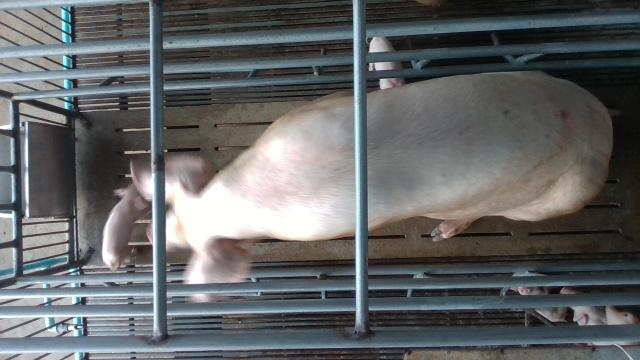piglet: (102, 184, 147, 270), (513, 285, 567, 325), (369, 37, 405, 90), (560, 287, 606, 324)
sow-sit: (130, 72, 615, 299)
